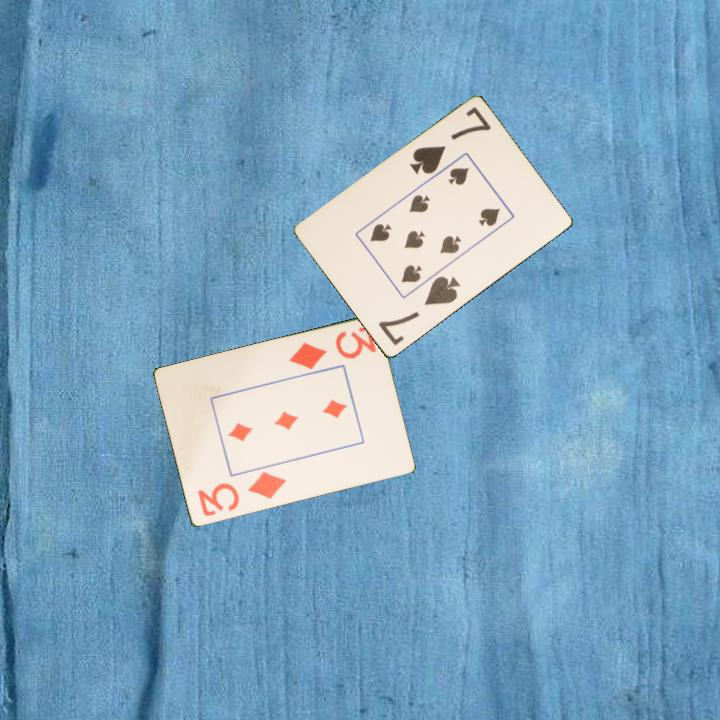3d: (194, 468, 289, 519), (285, 323, 379, 373)
7s: (374, 273, 464, 349), (406, 103, 494, 178)
